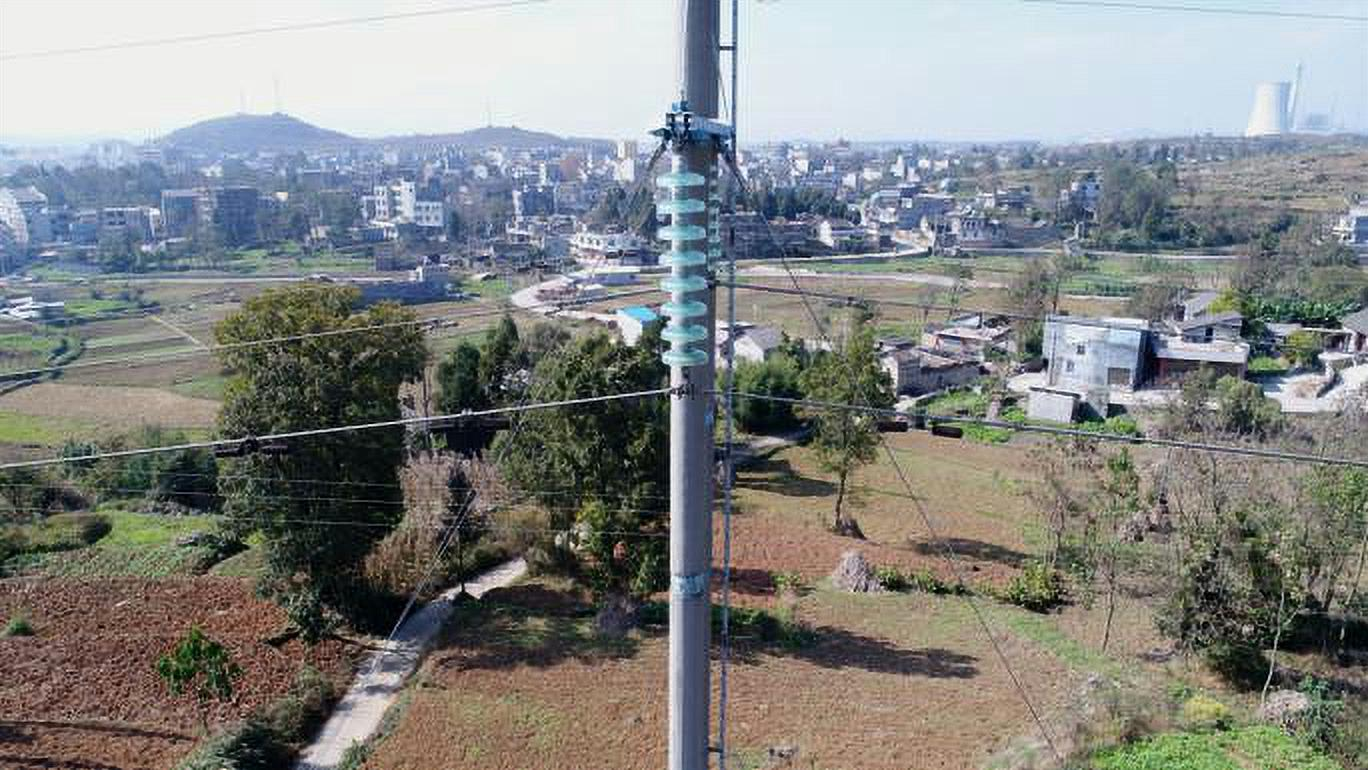insulator: (645, 167, 716, 374)
